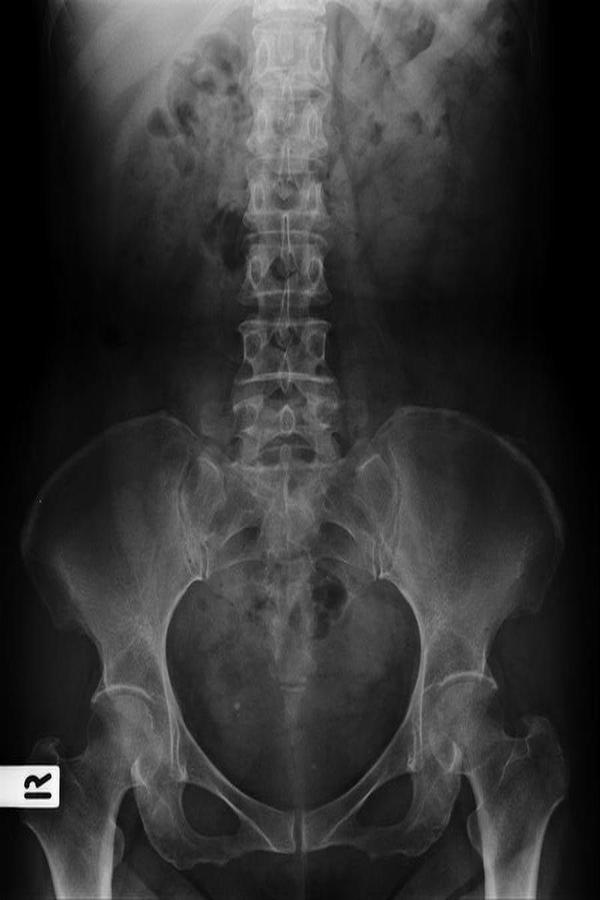lumbar scoliosis: (228, 4, 344, 492)
